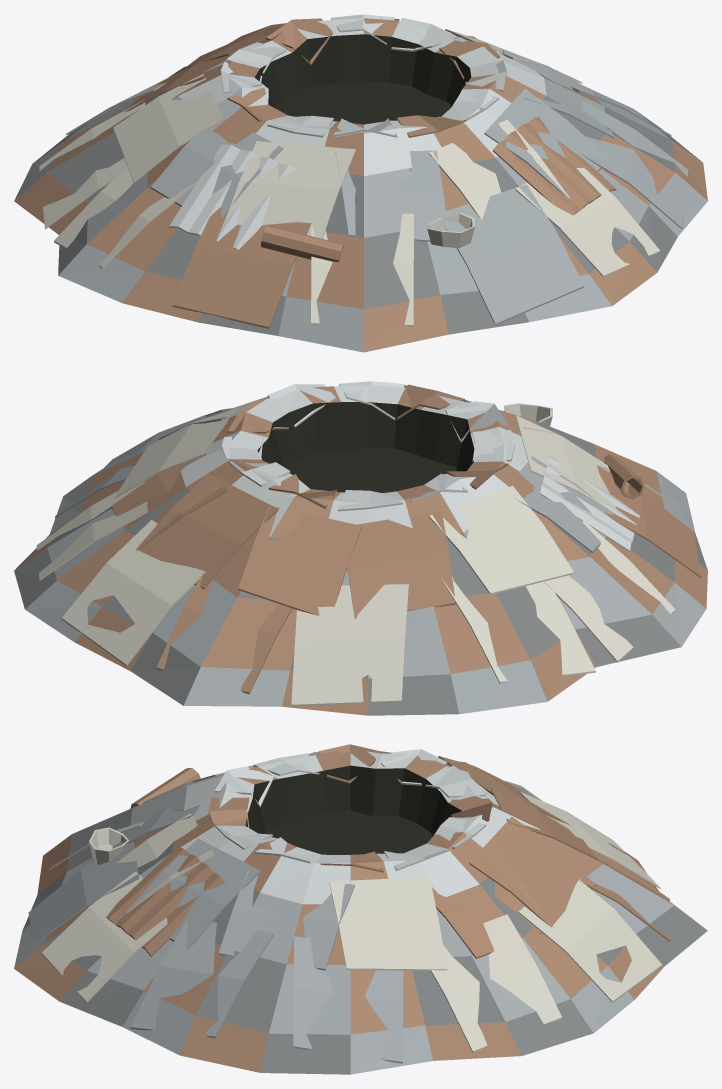
File: TrashGeyser.fbx
The picture shows the model from 3 angles, top to bottom: view 1: azimuth 30°, elevation 25°; view 2: azimuth 150°, elevation 25°; view 3: azimuth 270°, elevation 25°; orthographic projection. The views are drawn at different scales.
Parts seen in each view (by area): view 1: TrashGeyser; view 2: TrashGeyser; view 3: TrashGeyser.
Part boxes in pixels (<box>): TrashGeyser: <box>14,14,707,352</box>; TrashGeyser: <box>14,381,707,715</box>; TrashGeyser: <box>14,744,707,1074</box>.
Bounding box in the file's own units: 988 × 207 × 993.
